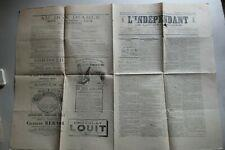paper: (12, 3, 223, 150)
